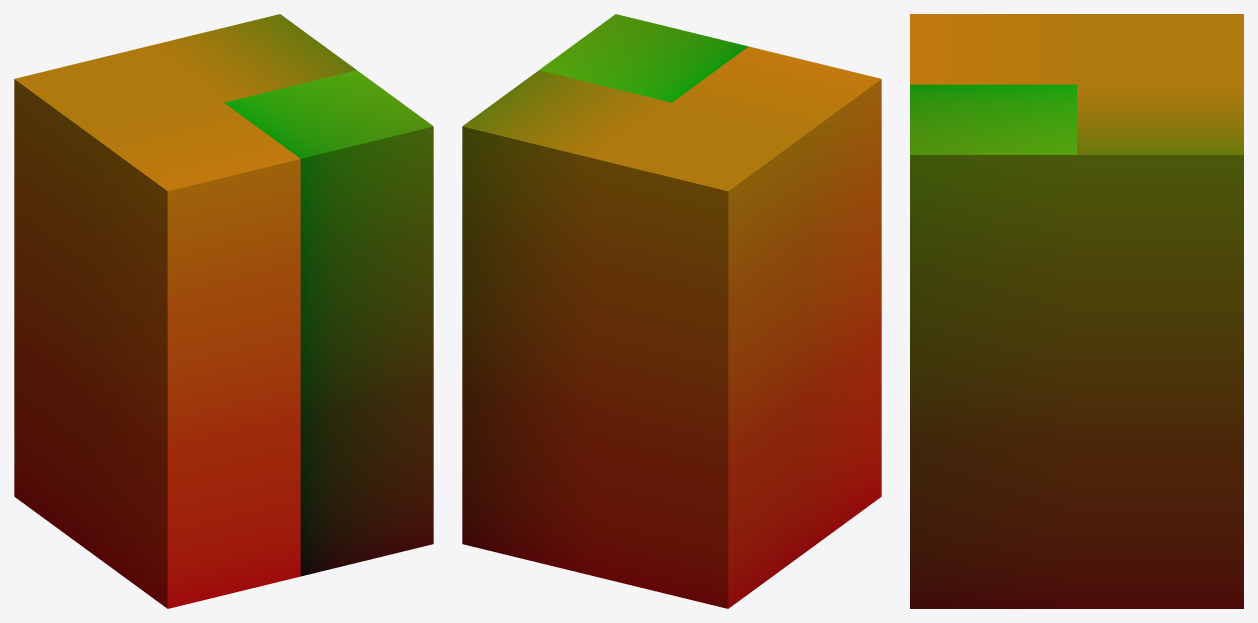
Rendered from wall.fbx.
The picture shows the model from 3 angles, left to right: view 1: azimuth 30°, elevation 25°; view 2: azimuth 150°, elevation 25°; view 3: azimuth 270°, elevation 25°; orthographic projection. The views are drawn at different scales.
Parts seen in each view (by area): view 1: Cube; view 2: Cube; view 3: Cube.
Boxes of the visible parts, x1,y1,x2,y2 form: Cube: (14,14,433,608); Cube: (462,14,881,608); Cube: (910,14,1243,608).
Size of the model in its own units: 200 by 300 by 200.
